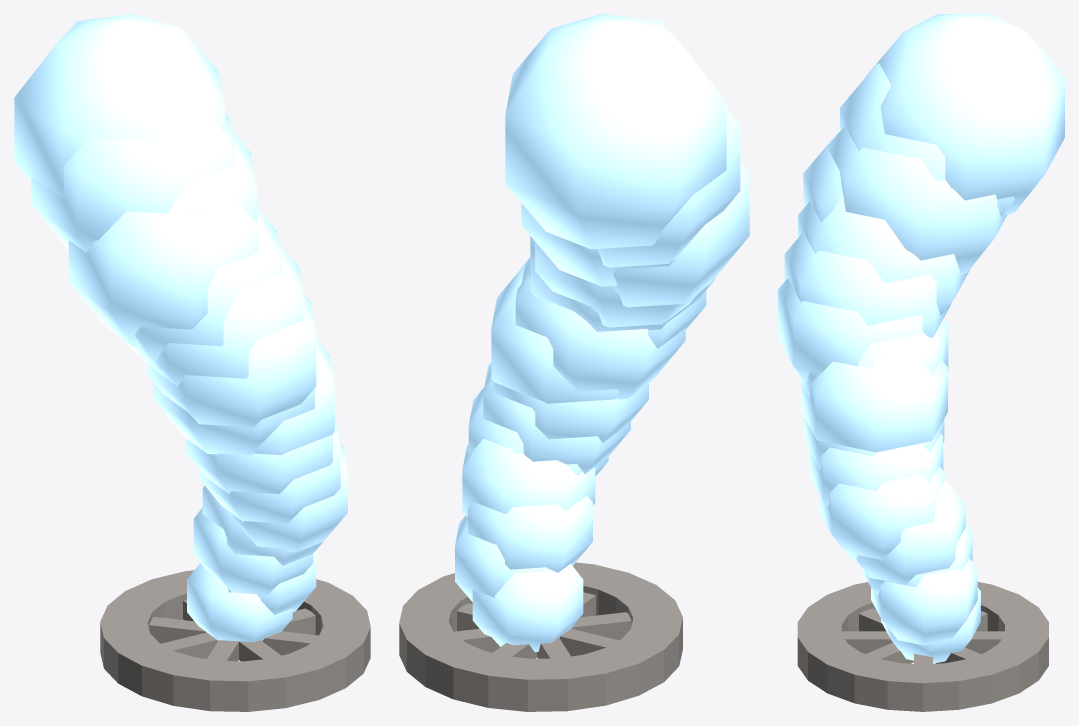
Rendered from vfx-mesh-library-steam-column-bed1861f.glb.
The picture shows the model from 3 angles, left to right: view 1: azimuth 30°, elevation 25°; view 2: azimuth 150°, elevation 25°; view 3: azimuth 270°, elevation 25°; orthographic projection. The views are drawn at different scales.
Visible parts, largest first — view 1: steam-column; view 2: steam-column; view 3: steam-column.
Part boxes in pixels (box(x1,y1,x2,y2)): steam-column: box(14, 14, 370, 711); steam-column: box(399, 14, 749, 711); steam-column: box(778, 14, 1064, 711).
Bounding box in the file's own units: 0.499 × 1.04 × 0.4522.
